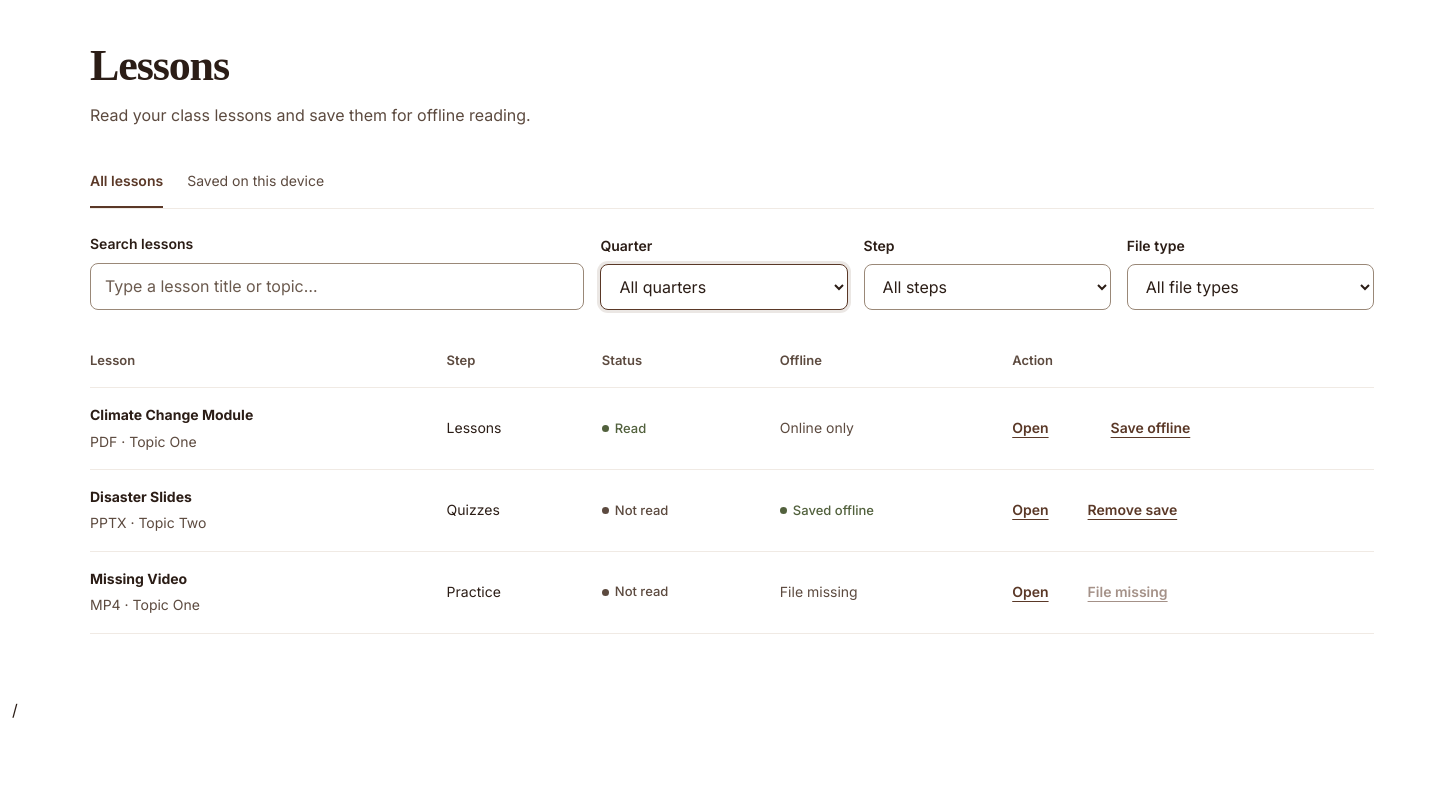
Test: MaterialsHub (learner) › filters by search, quarter, step, file type, and saved lessons
Earlier steps of the test are not shown.
Select "Practice" in the dropdown labelled "Step" at point(987, 287), box [864,264,1111,310]
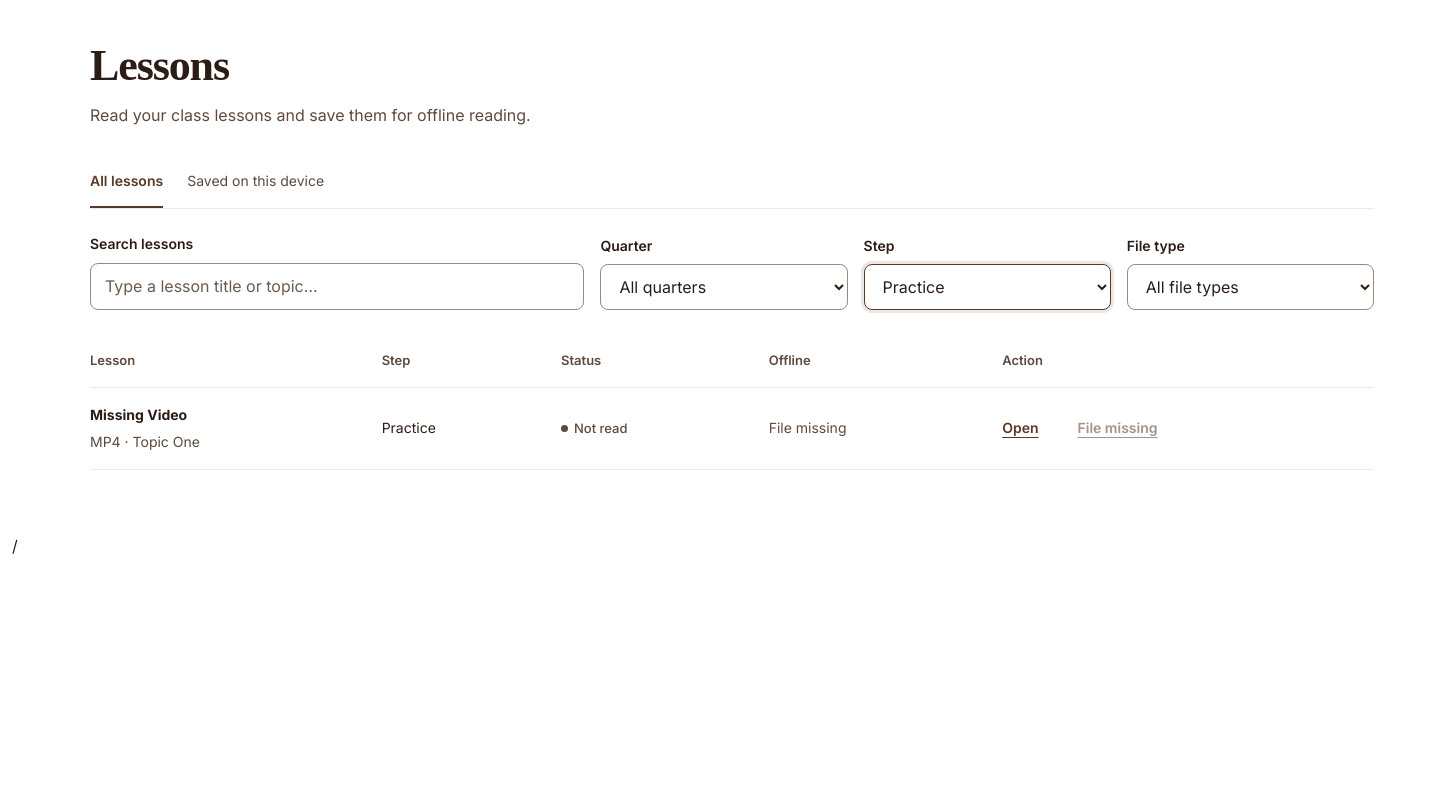
Select "All steps" in the dropdown labelled "Step" at point(987, 287), box [864,264,1111,310]
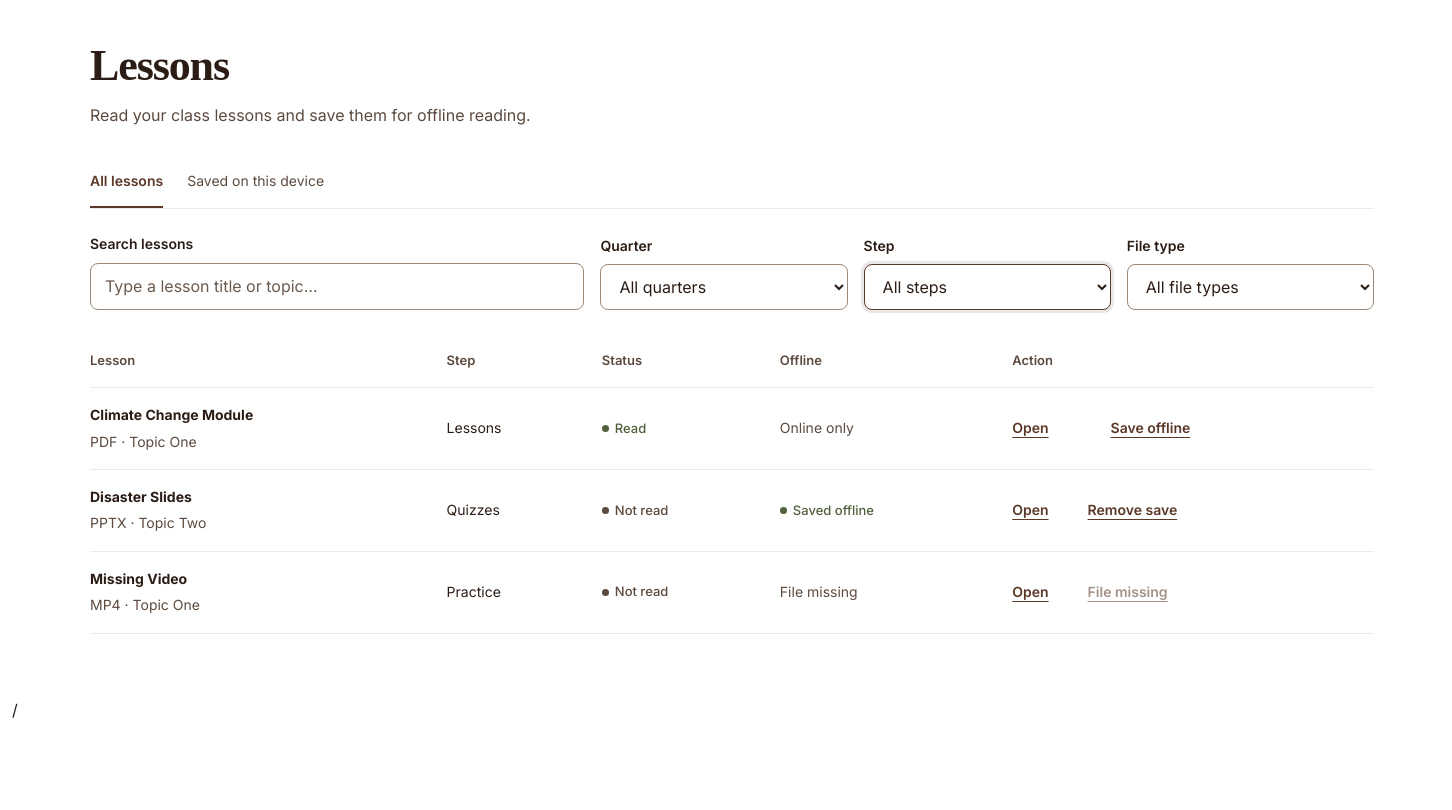
Select "PPTX" in the dropdown labelled "File type" at point(1250, 287), box [1127,264,1374,310]
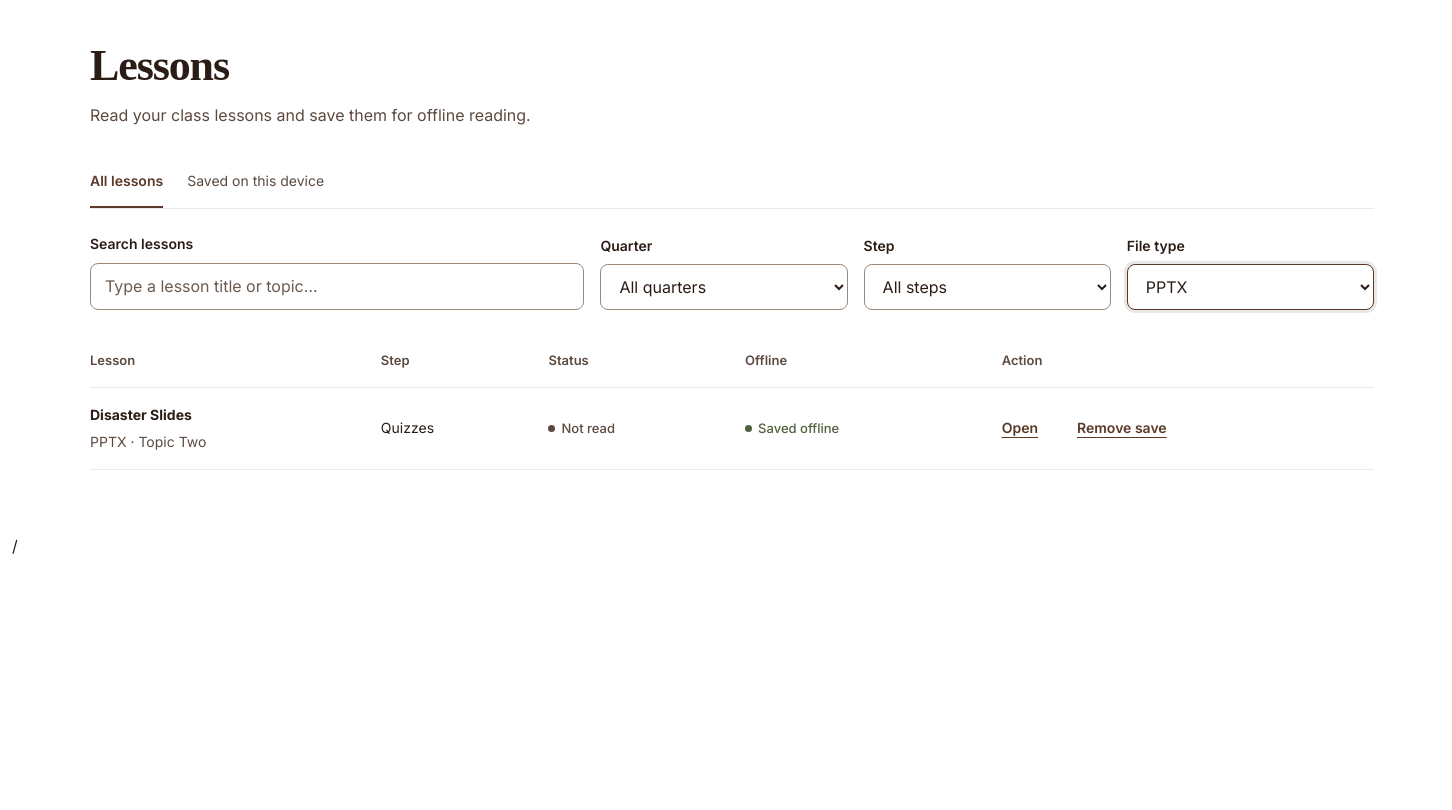
Select "DOCX" in the dropdown labelled "File type" at point(1250, 287), box [1127,264,1374,310]
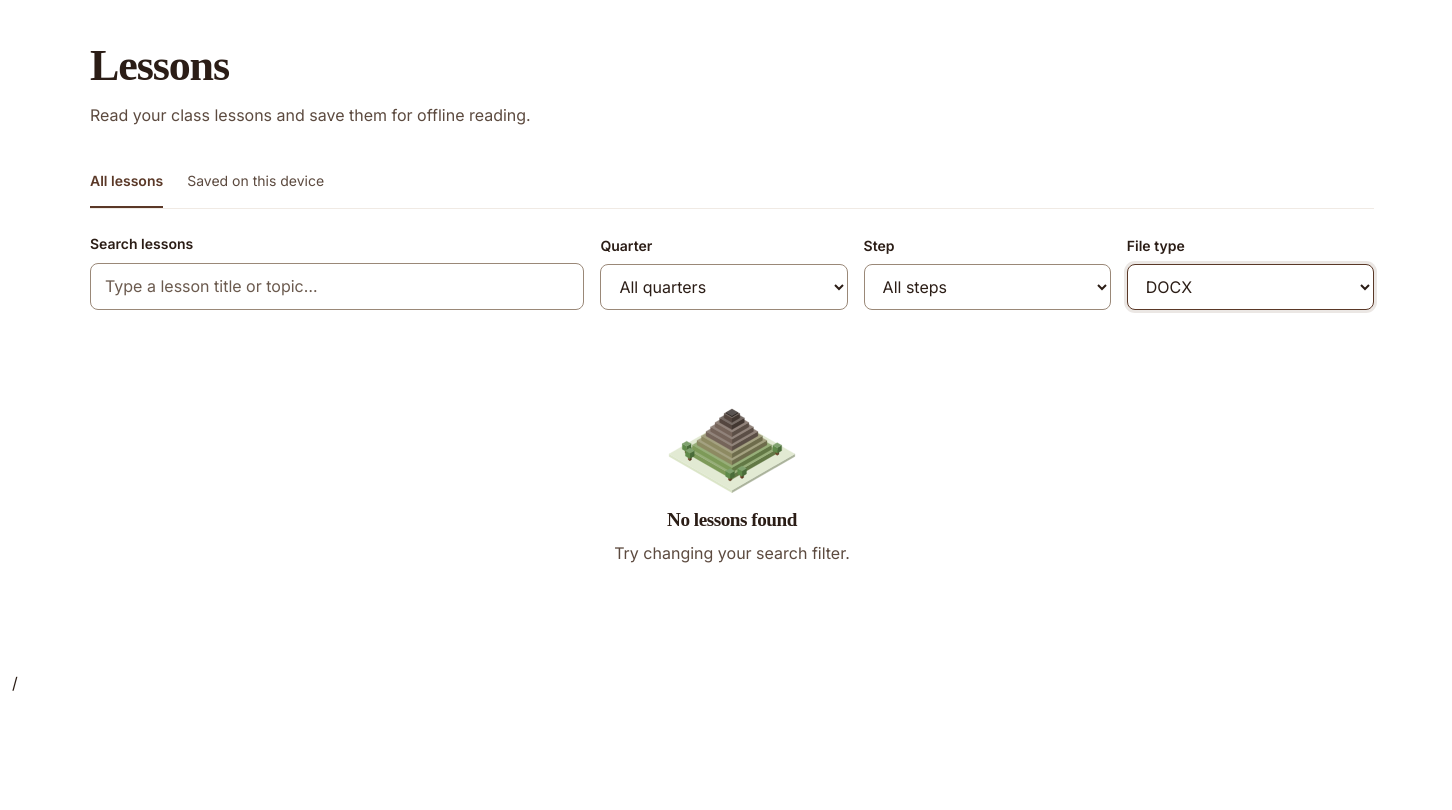
Expected: the heading "No lessons found" is shown, [667,508,797,531]
Select "All file types" in the dropdown labelled "File type" at point(1250, 287), box [1127,264,1374,310]
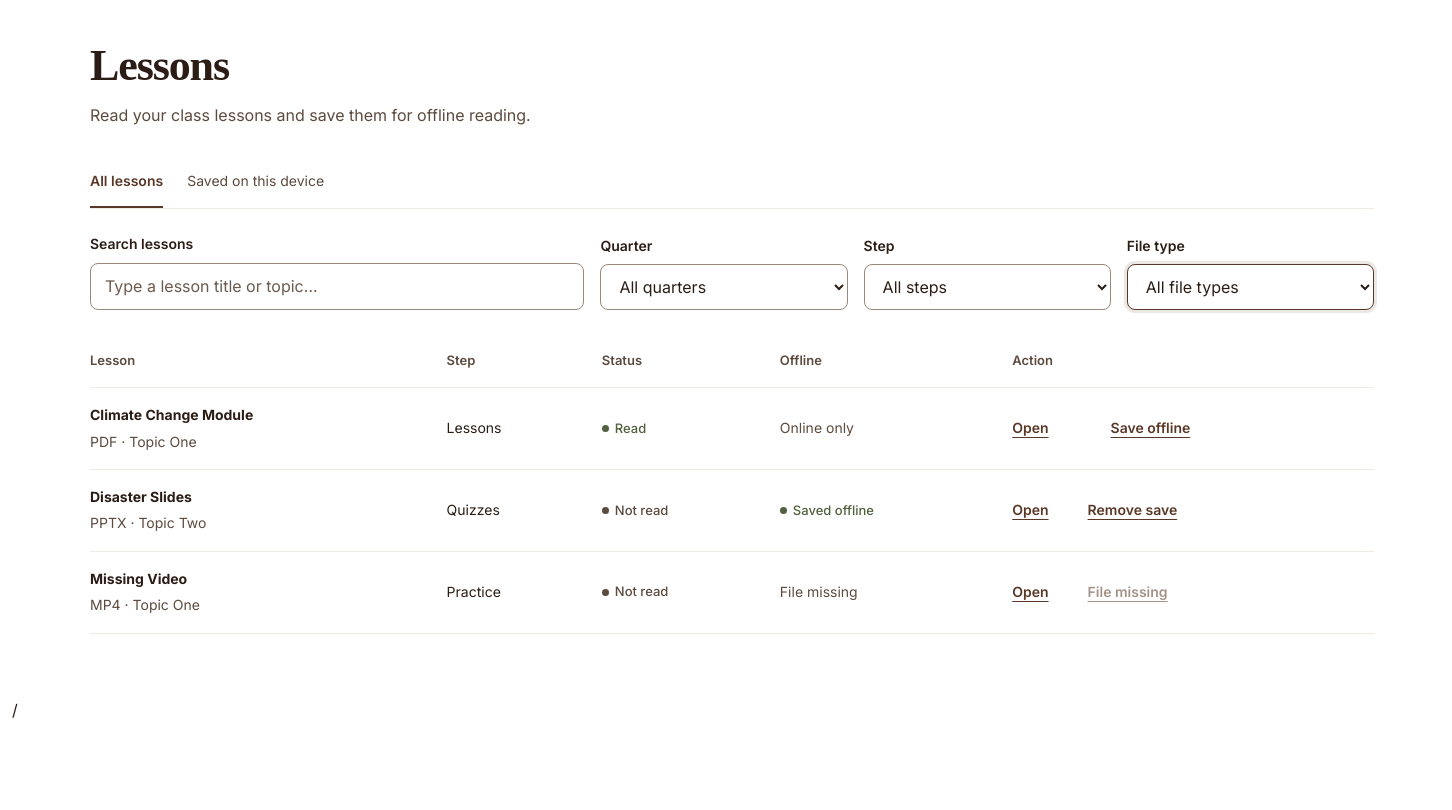
Click the button "Saved on this device" at point(256, 184), box [187,160,324,208]
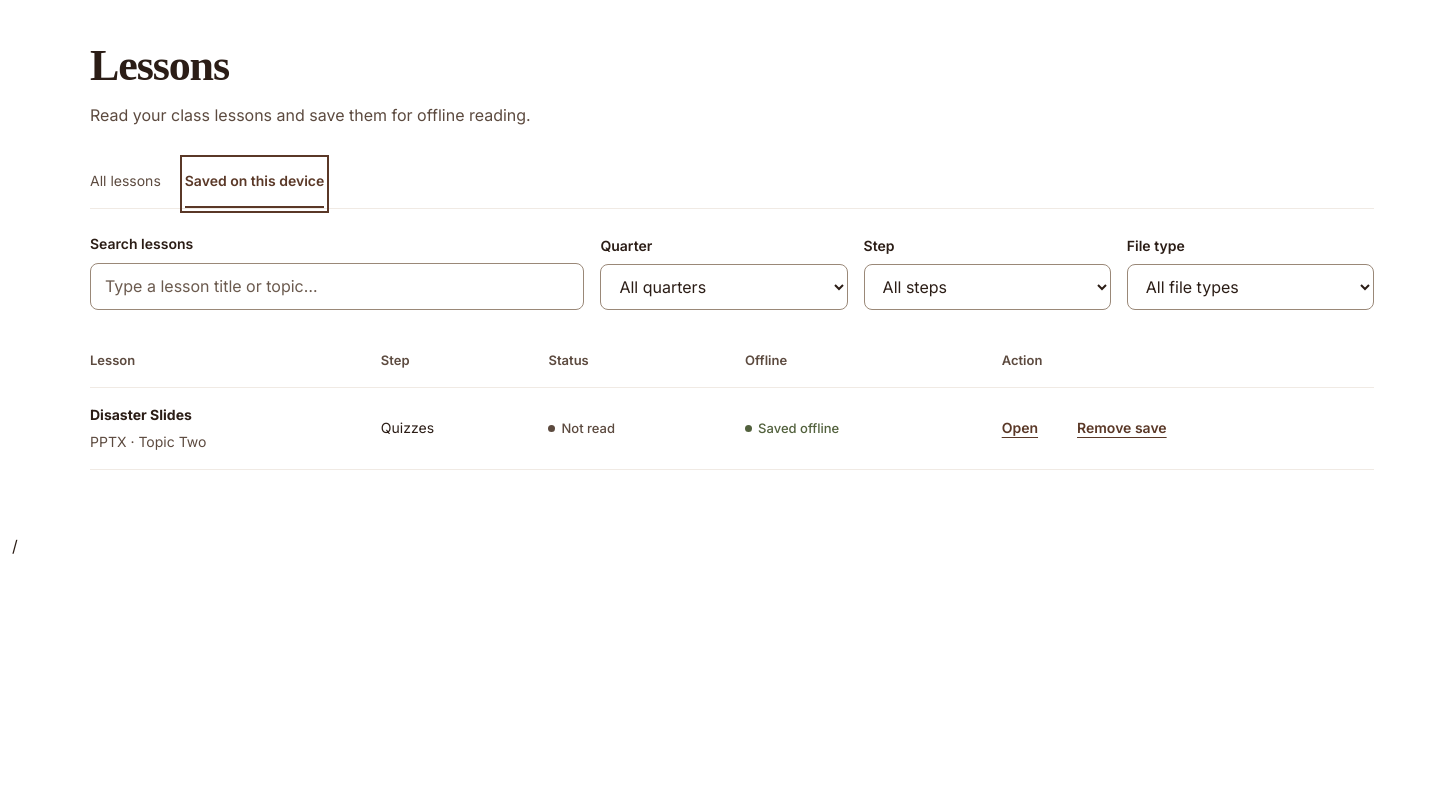
Expected: the button "Saved on this device" is pressed, [185,160,324,208]
